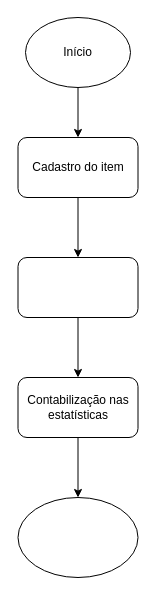
The diagram is 155 pixels wide and 595 high, and some of its shapes have lost their labels. The shapes that lost their labels are listed below. From the top down, each one's centre as x and y in pixels, then its label:
At (x=77, y=287): "Homologação / Reciclagem".
At (x=77, y=537): "Fim".
